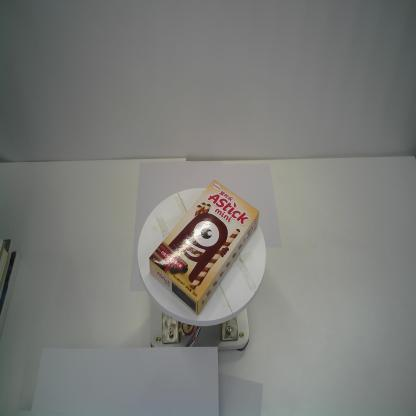Dessert: (148, 177, 260, 316)
